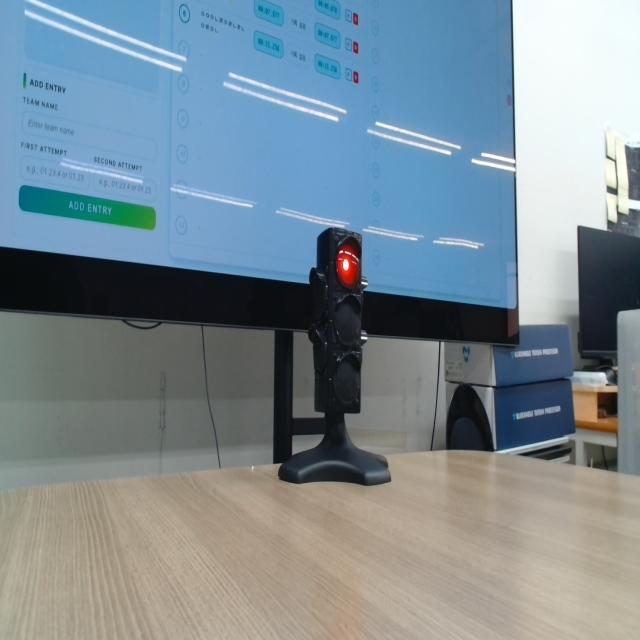red_light: (336, 242, 360, 288)
